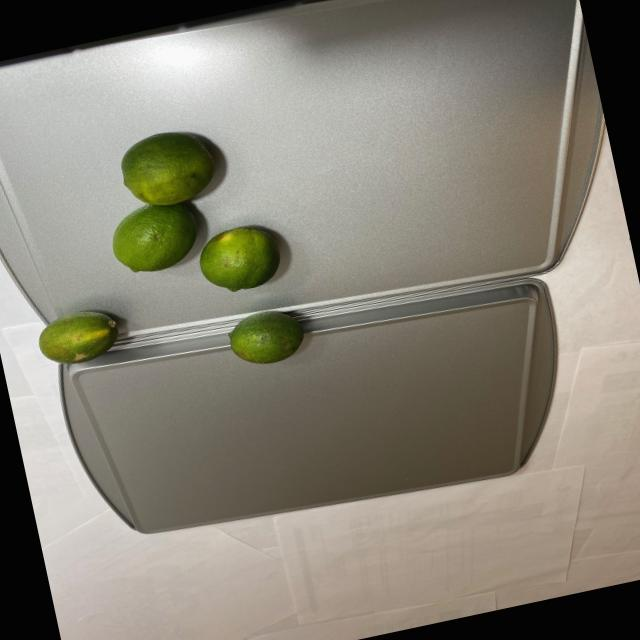lemon: (92, 108, 321, 398), (32, 306, 128, 370)
